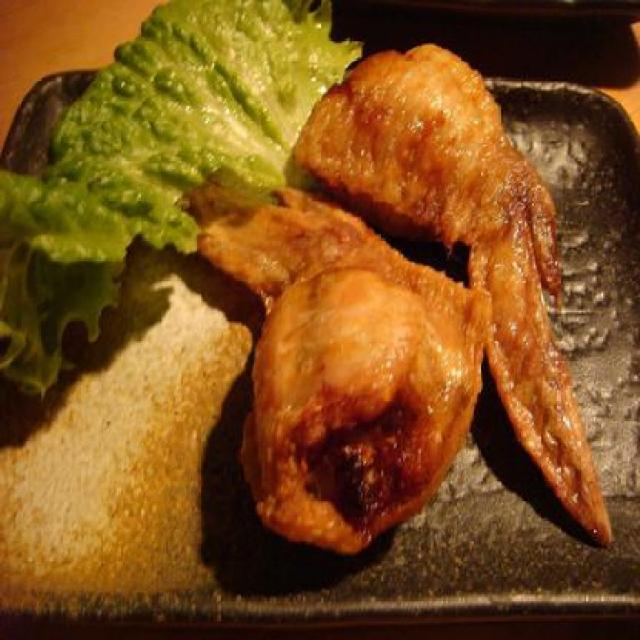Deep fried chicken wing: (210, 64, 610, 554)
Salad: (13, 9, 324, 328)
